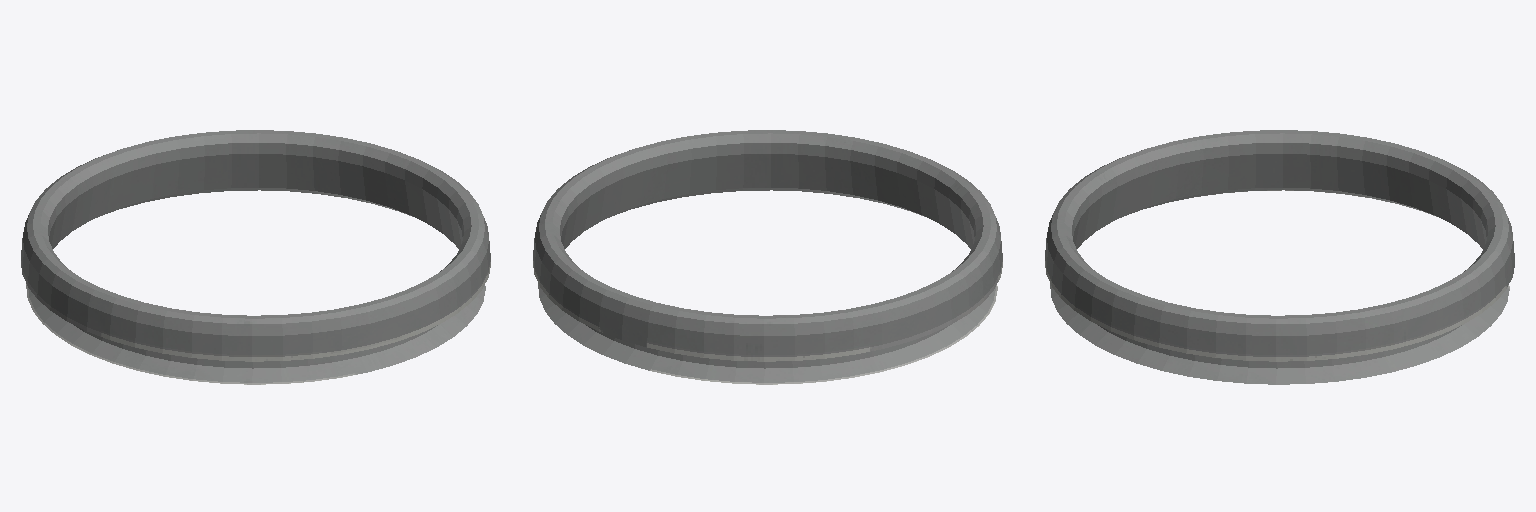
The picture shows the model from 3 angles: view 1: azimuth 30°, elevation 25°; view 2: azimuth 150°, elevation 25°; view 3: azimuth 270°, elevation 25°; orthographic projection.
Parts seen in each view (by area): view 1: Plastic_Collar_low; view 2: Plastic_Collar_low; view 3: Plastic_Collar_low.
Boxes of the visible parts, x1,y1,x2,y2 form: Plastic_Collar_low: [21, 130, 490, 384]; Plastic_Collar_low: [533, 130, 1002, 384]; Plastic_Collar_low: [1045, 130, 1514, 384].
Bounding box in the file's own units: 3.52 × 0.5212 × 3.52.
Materials: 1 (1 with a texture image).